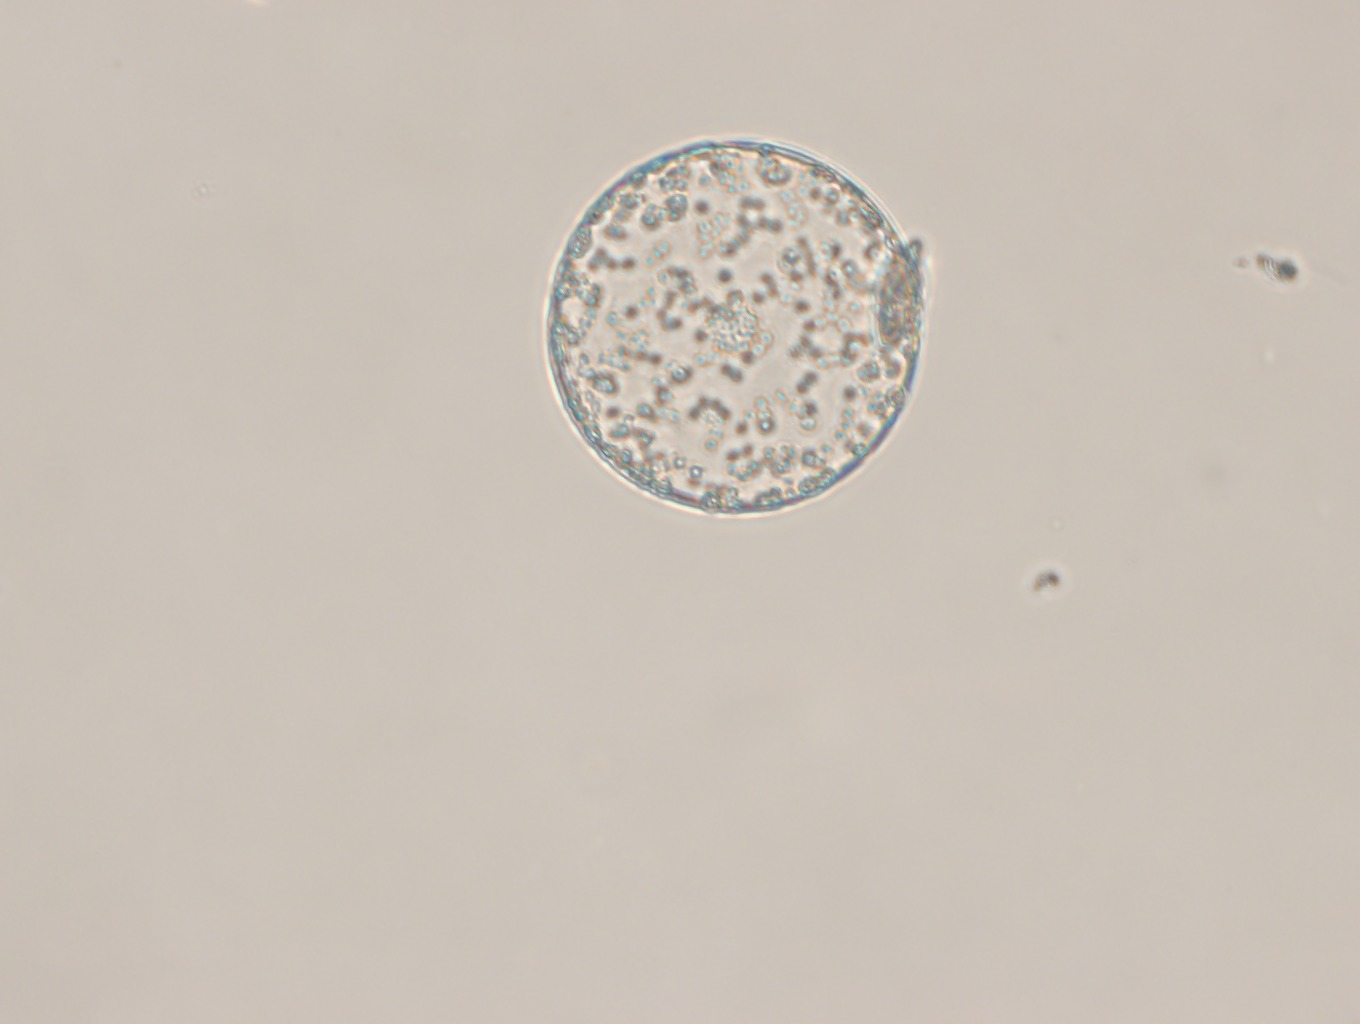coscinodiscus: (539, 124, 928, 524)
